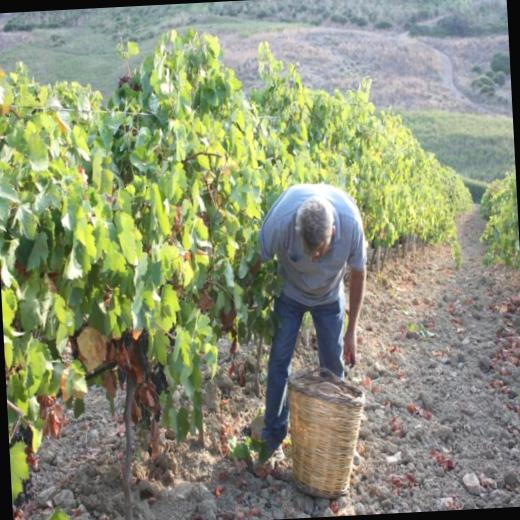Orange: (146, 358, 169, 396), (134, 327, 150, 374), (12, 472, 34, 506), (139, 402, 163, 428), (8, 424, 32, 448), (122, 326, 135, 348), (118, 366, 129, 385)
